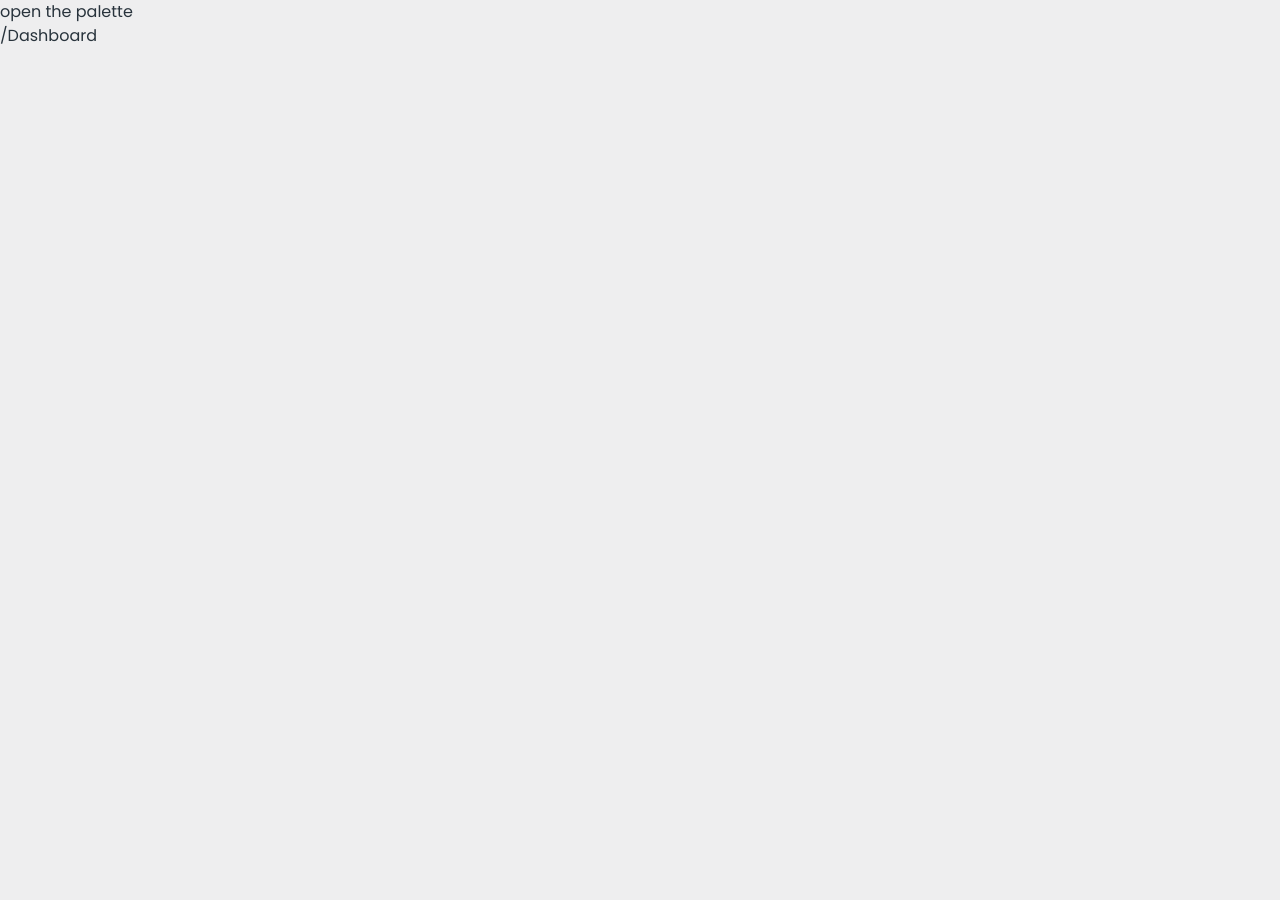
Test: records and chips › gives each kind that matched a chip with how many, and the group header the same
The image size is (1280, 900).
Press k
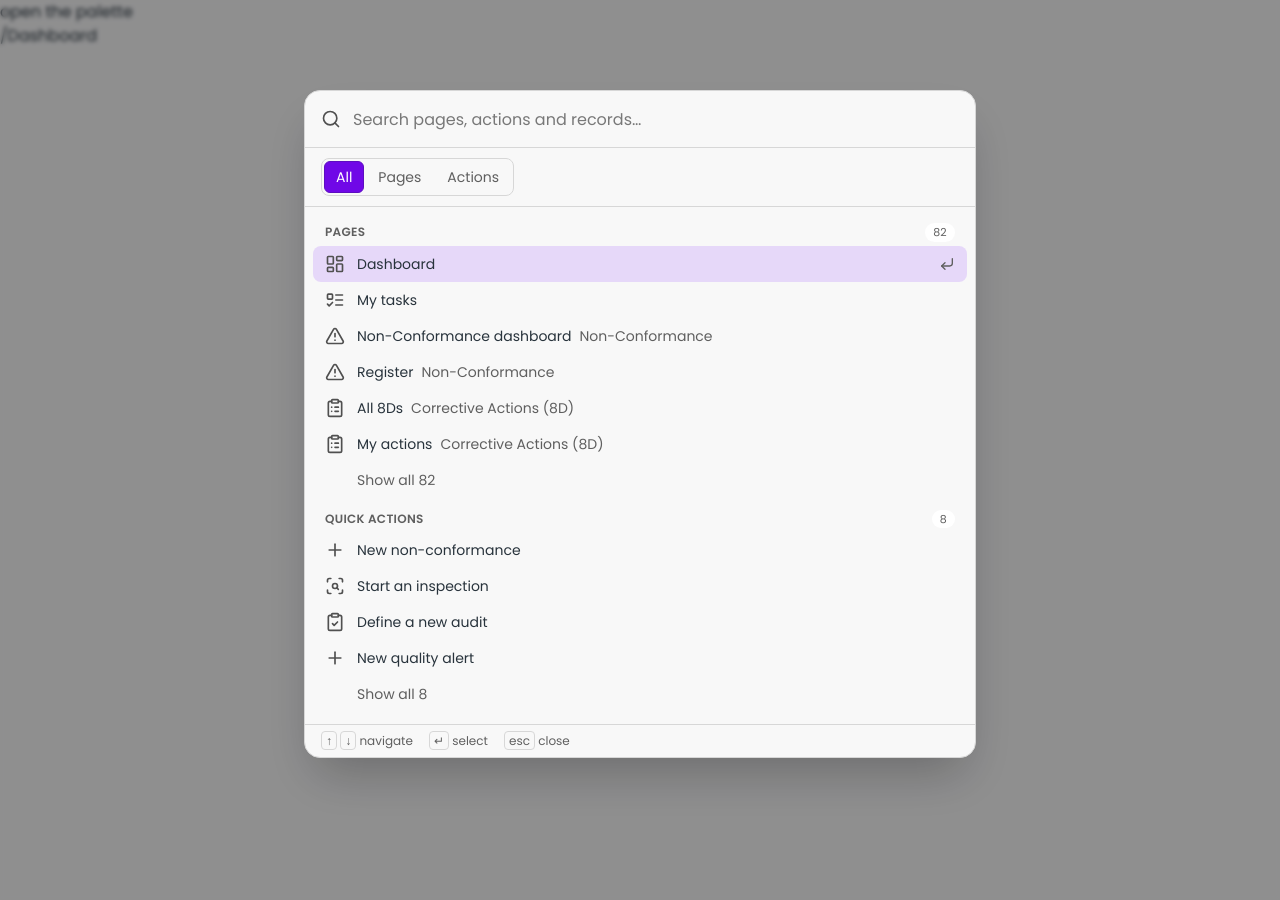
Expected: the element "Non-conformances" is not shown
Type "hous" into the dropdown labelled "Search pages, actions and records…" at (656, 119), box 353,91 -> 959,147
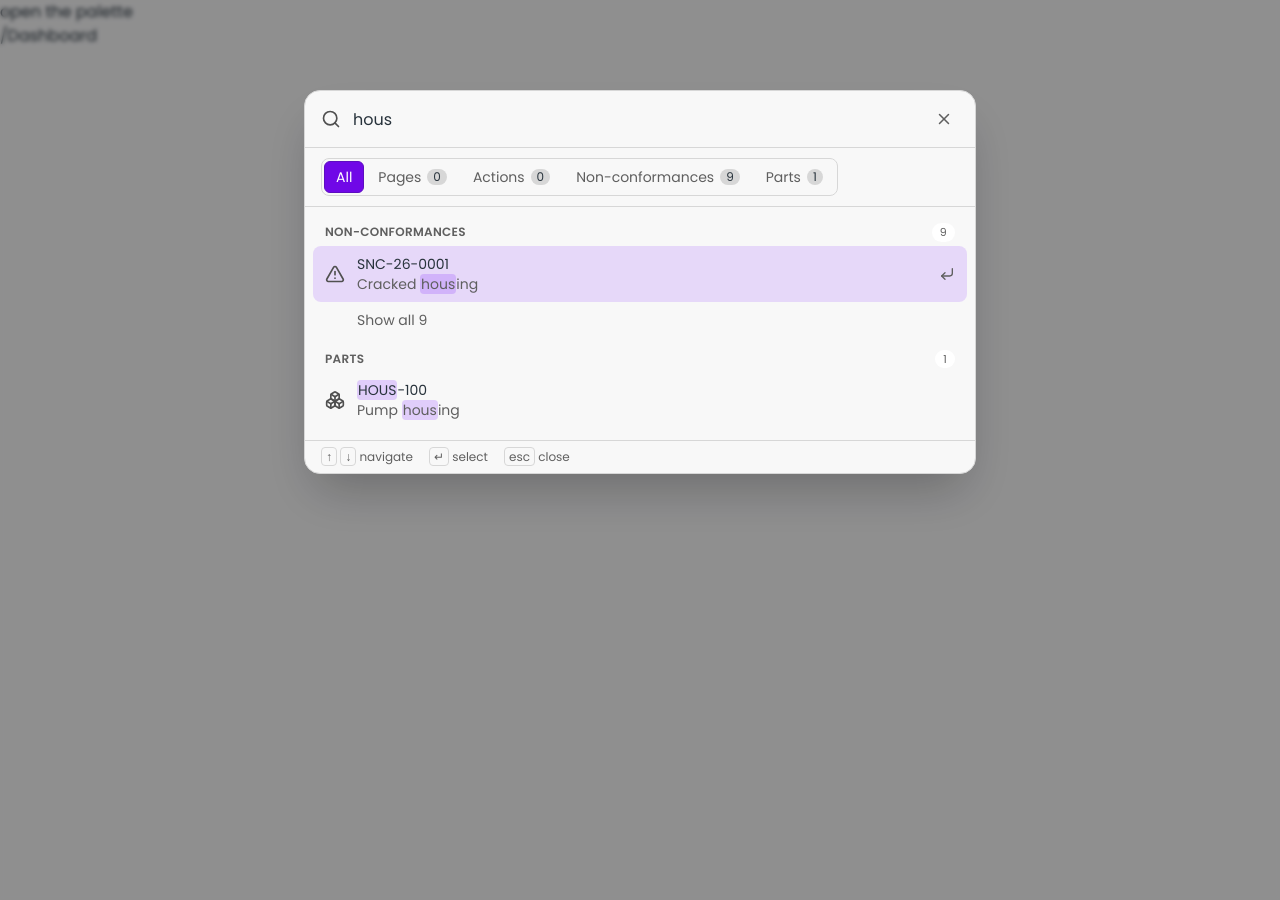
Now the button "Non-conformances 9" is shown, box 564,161 -> 752,193
Now the button "Parts 1" is shown, box 754,161 -> 835,193
Now the 2nd text "9" is shown, box 932,223 -> 955,242
